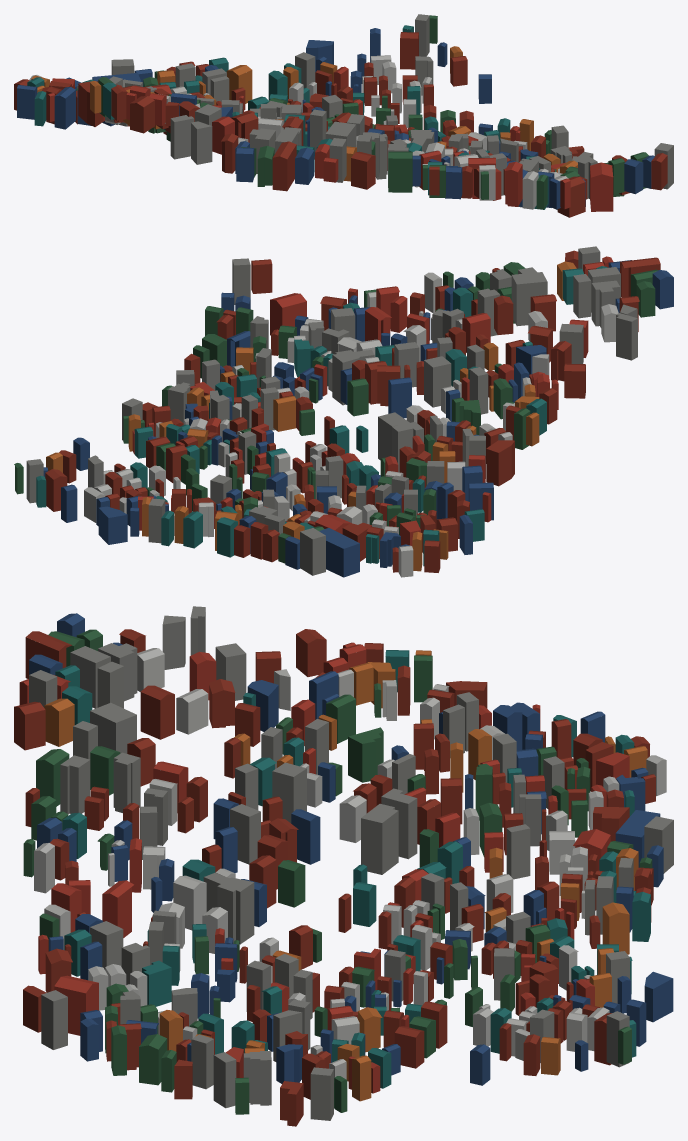
File: near-17-109437-59474.c7499eec.glb
3 renders of one model, top to bottom at view 1: azimuth 30°, elevation 25°; view 2: azimuth 150°, elevation 25°; view 3: azimuth 270°, elevation 25°, orthographic. The views are drawn at different scales.
Size of the model in its own units: 306 by 124 by 305.
